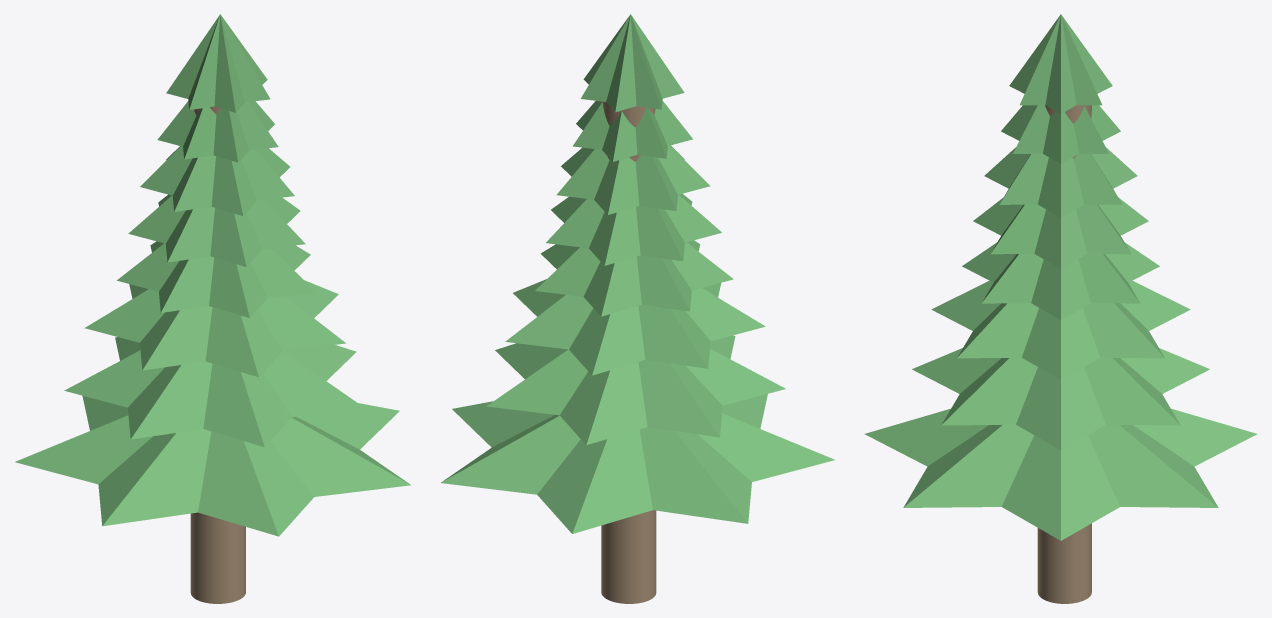
The model's file is tree.glb.
3 views of the same model, side by side, from view 1: azimuth 30°, elevation 25°; view 2: azimuth 150°, elevation 25°; view 3: azimuth 270°, elevation 25° (orthographic).
Parts seen in each view (by area): view 1: Mesh_Mesh_head_geo.001_lambert2SG.001; view 2: Mesh_Mesh_head_geo.001_lambert2SG.001; view 3: Mesh_Mesh_head_geo.001_lambert2SG.001.
Boxes of the visible parts, left/top/right/bottom form: Mesh_Mesh_head_geo.001_lambert2SG.001: left=15, top=14, right=410, bottom=603; Mesh_Mesh_head_geo.001_lambert2SG.001: left=441, top=14, right=834, bottom=603; Mesh_Mesh_head_geo.001_lambert2SG.001: left=864, top=14, right=1257, bottom=603.
Size of the model in its own units: 1.24 by 2.01 by 1.24.
